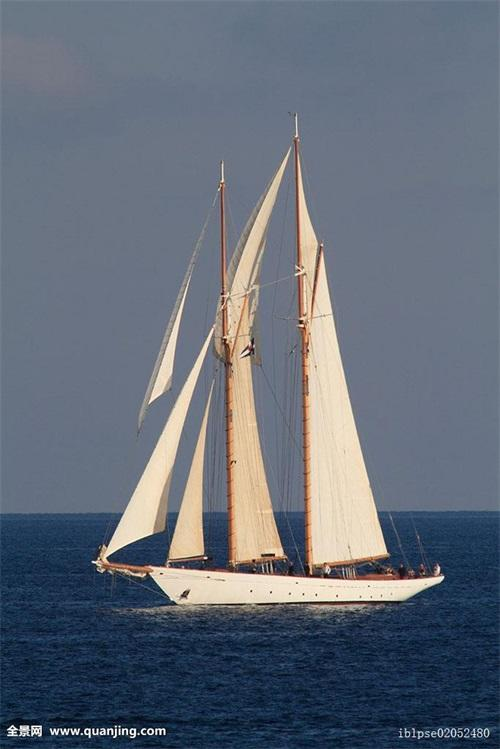Ship: (94, 115, 449, 610)
